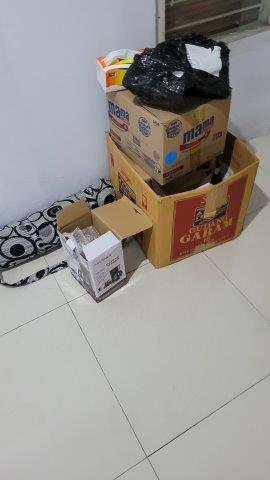kardus: (101, 86, 259, 267), (54, 196, 154, 307)
kertas: (181, 42, 221, 77)
